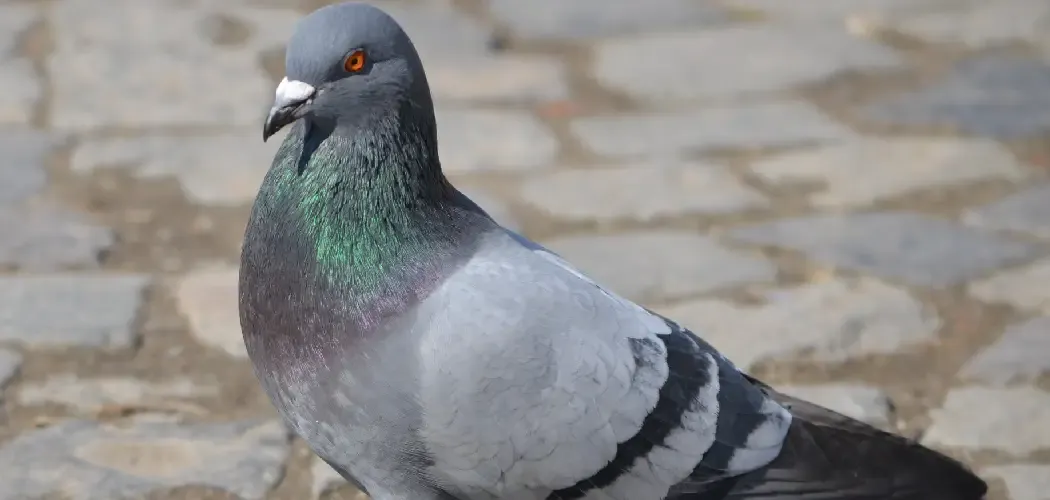Flying Rat: (242, 4, 995, 493)
